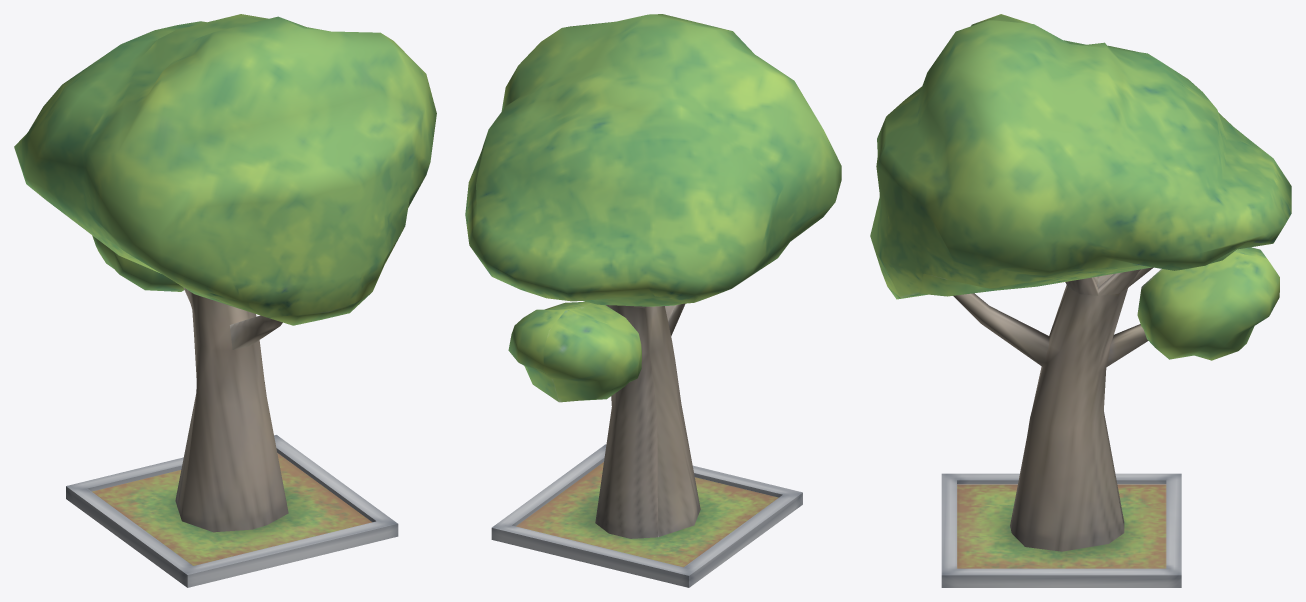
File: Tree_base.glb
The picture shows the model from 3 angles, left to right: view 1: azimuth 30°, elevation 25°; view 2: azimuth 150°, elevation 25°; view 3: azimuth 270°, elevation 25°; orthographic projection. The views are drawn at different scales.
Parts seen in each view (by area): view 1: Tree_base.001; view 2: Tree_base.001; view 3: Tree_base.001.
Boxes of the visible parts, left/top/right/bottom form: Tree_base.001: left=14, top=14, right=436, bottom=587; Tree_base.001: left=465, top=14, right=841, bottom=587; Tree_base.001: left=870, top=14, right=1291, bottom=587.
Size of the model in its own units: 3.2 by 4.67 by 3.57.
Materials: 1 (1 with a texture image).
